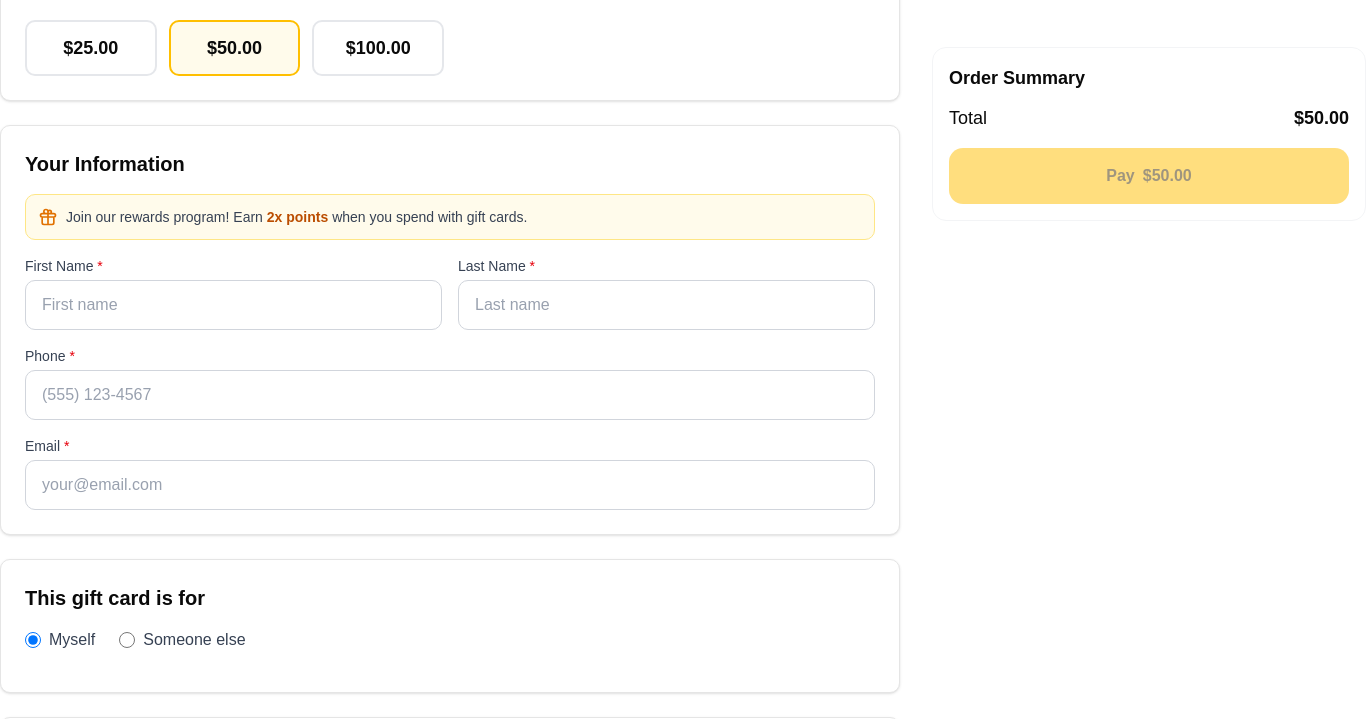
GiftcardPageClient › recipient information › should render optional recipient fields when Someone else is selected
Note: Click "Someone else" radio to show recipient fields
Click the radio button labelled "Someone else": point(127, 640) top-left (119, 632), bottom-right (135, 648)
(page scrolled)
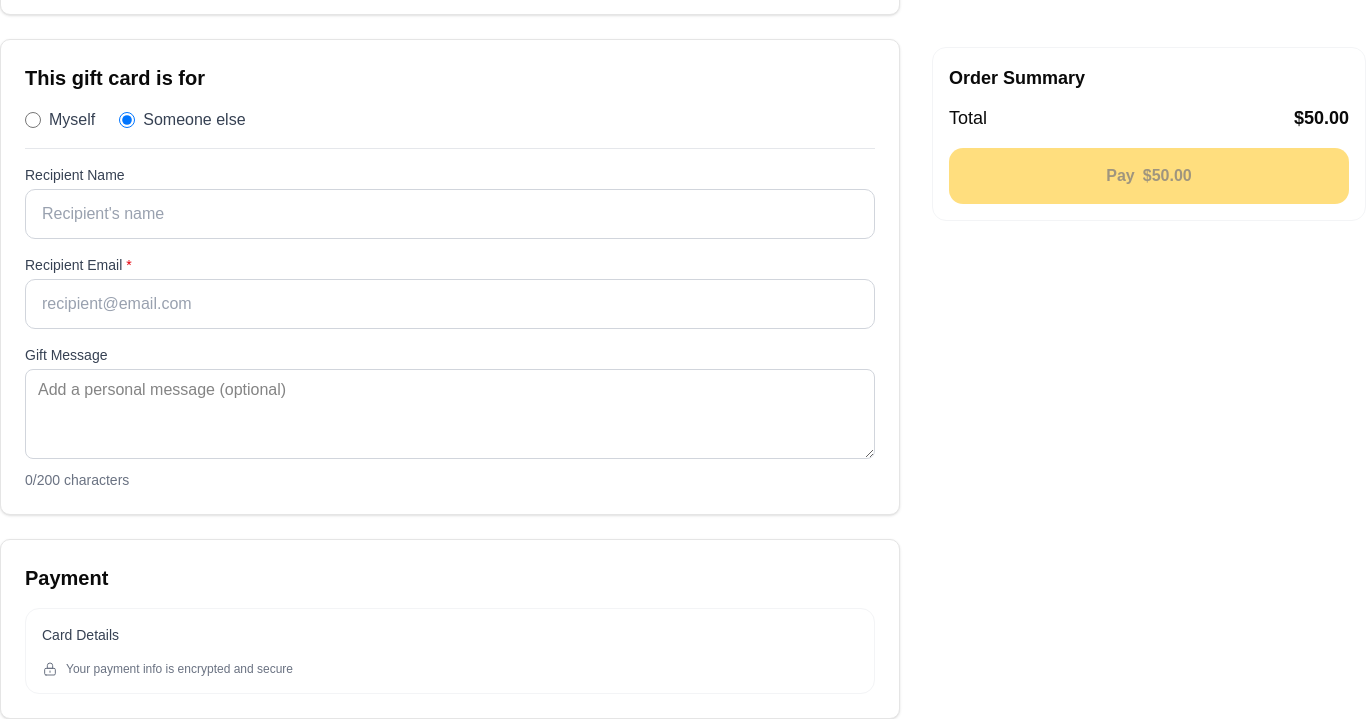
Result: the field with placeholder "Recipient's name" is shown at top-left (25, 189), bottom-right (875, 239)
Result: the field with placeholder "recipient@email.com" is shown at top-left (25, 279), bottom-right (875, 329)
Result: the text box with placeholder "Add a personal message (optional)" is shown at top-left (25, 369), bottom-right (875, 459)
